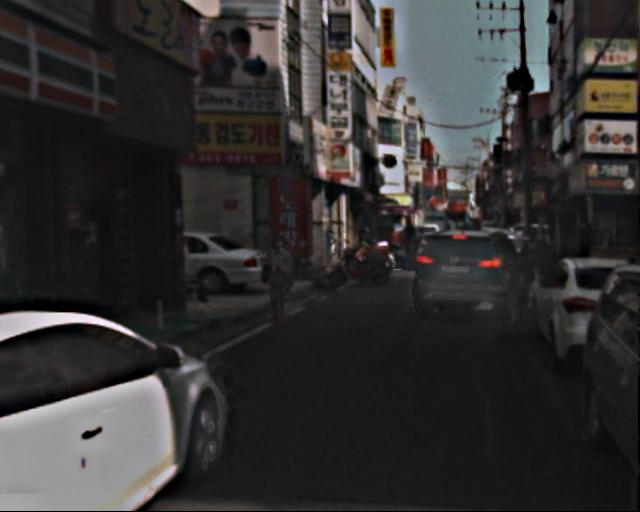person: (259, 233, 298, 328), (535, 233, 567, 311)
